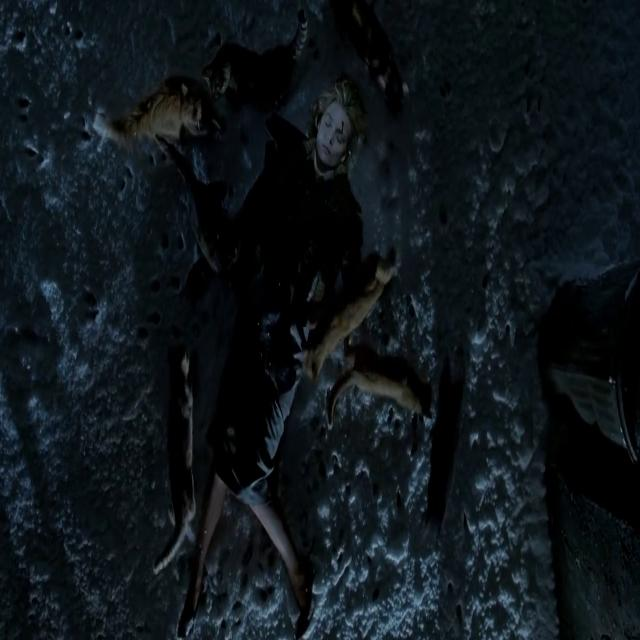Cat: (149, 319, 206, 588), (91, 69, 220, 178), (291, 239, 393, 375), (153, 129, 241, 285), (325, 0, 419, 126), (193, 7, 309, 109), (322, 347, 439, 445), (424, 324, 468, 565)
People: (186, 57, 360, 640)
